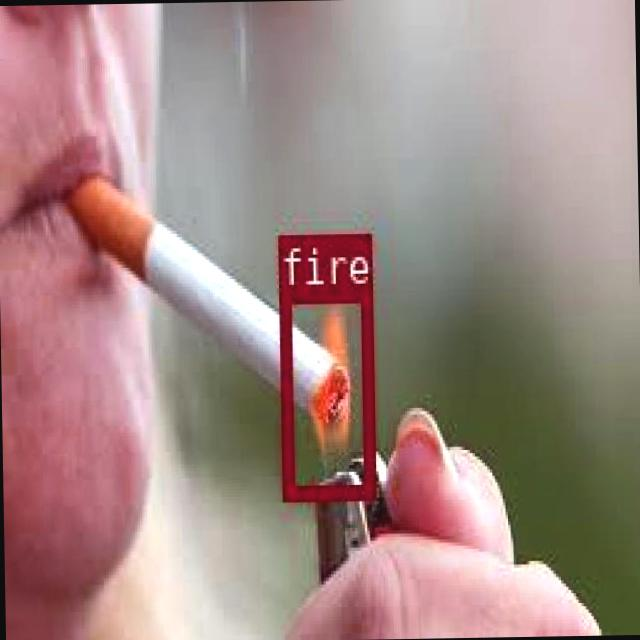fire: (276, 284, 371, 498)
